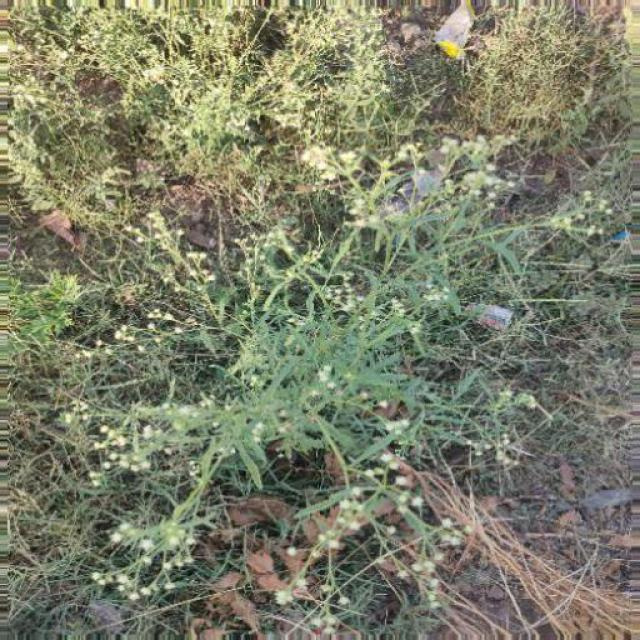weed: (19, 4, 554, 598)
